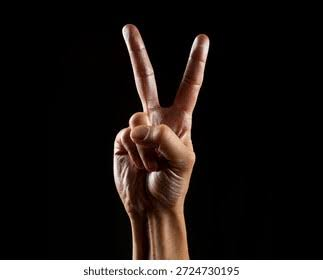peace_sign: (106, 17, 213, 215)
